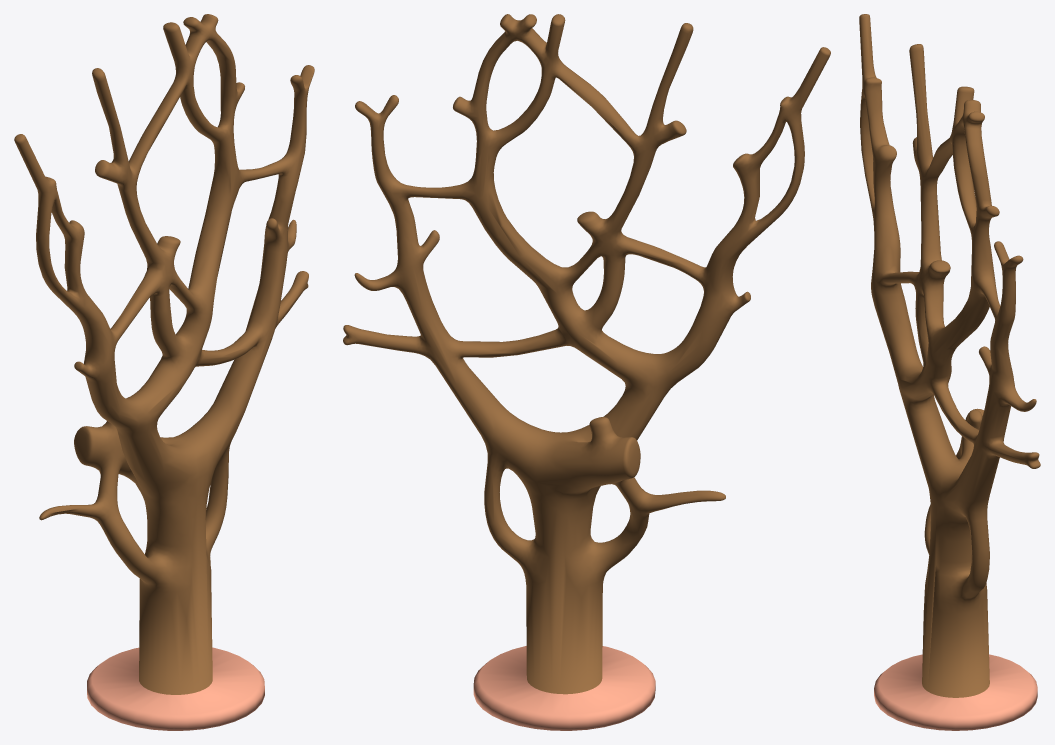
File: ShowPieceTree3.fbx
The picture shows the model from 3 angles, left to right: view 1: azimuth 30°, elevation 25°; view 2: azimuth 150°, elevation 25°; view 3: azimuth 270°, elevation 25°; orthographic projection. The views are drawn at different scales.
Parts seen in each view (by area): view 1: ShowPieceTree3; view 2: ShowPieceTree3; view 3: ShowPieceTree3.
Part boxes in pixels (x1=…): ShowPieceTree3: x1=14, y1=14, x2=314, y2=730; ShowPieceTree3: x1=343, y1=14, x2=830, y2=730; ShowPieceTree3: x1=859, y1=14, x2=1040, y2=730.
Size of the model in its own units: 0.4897 by 0.81 by 0.2185.
